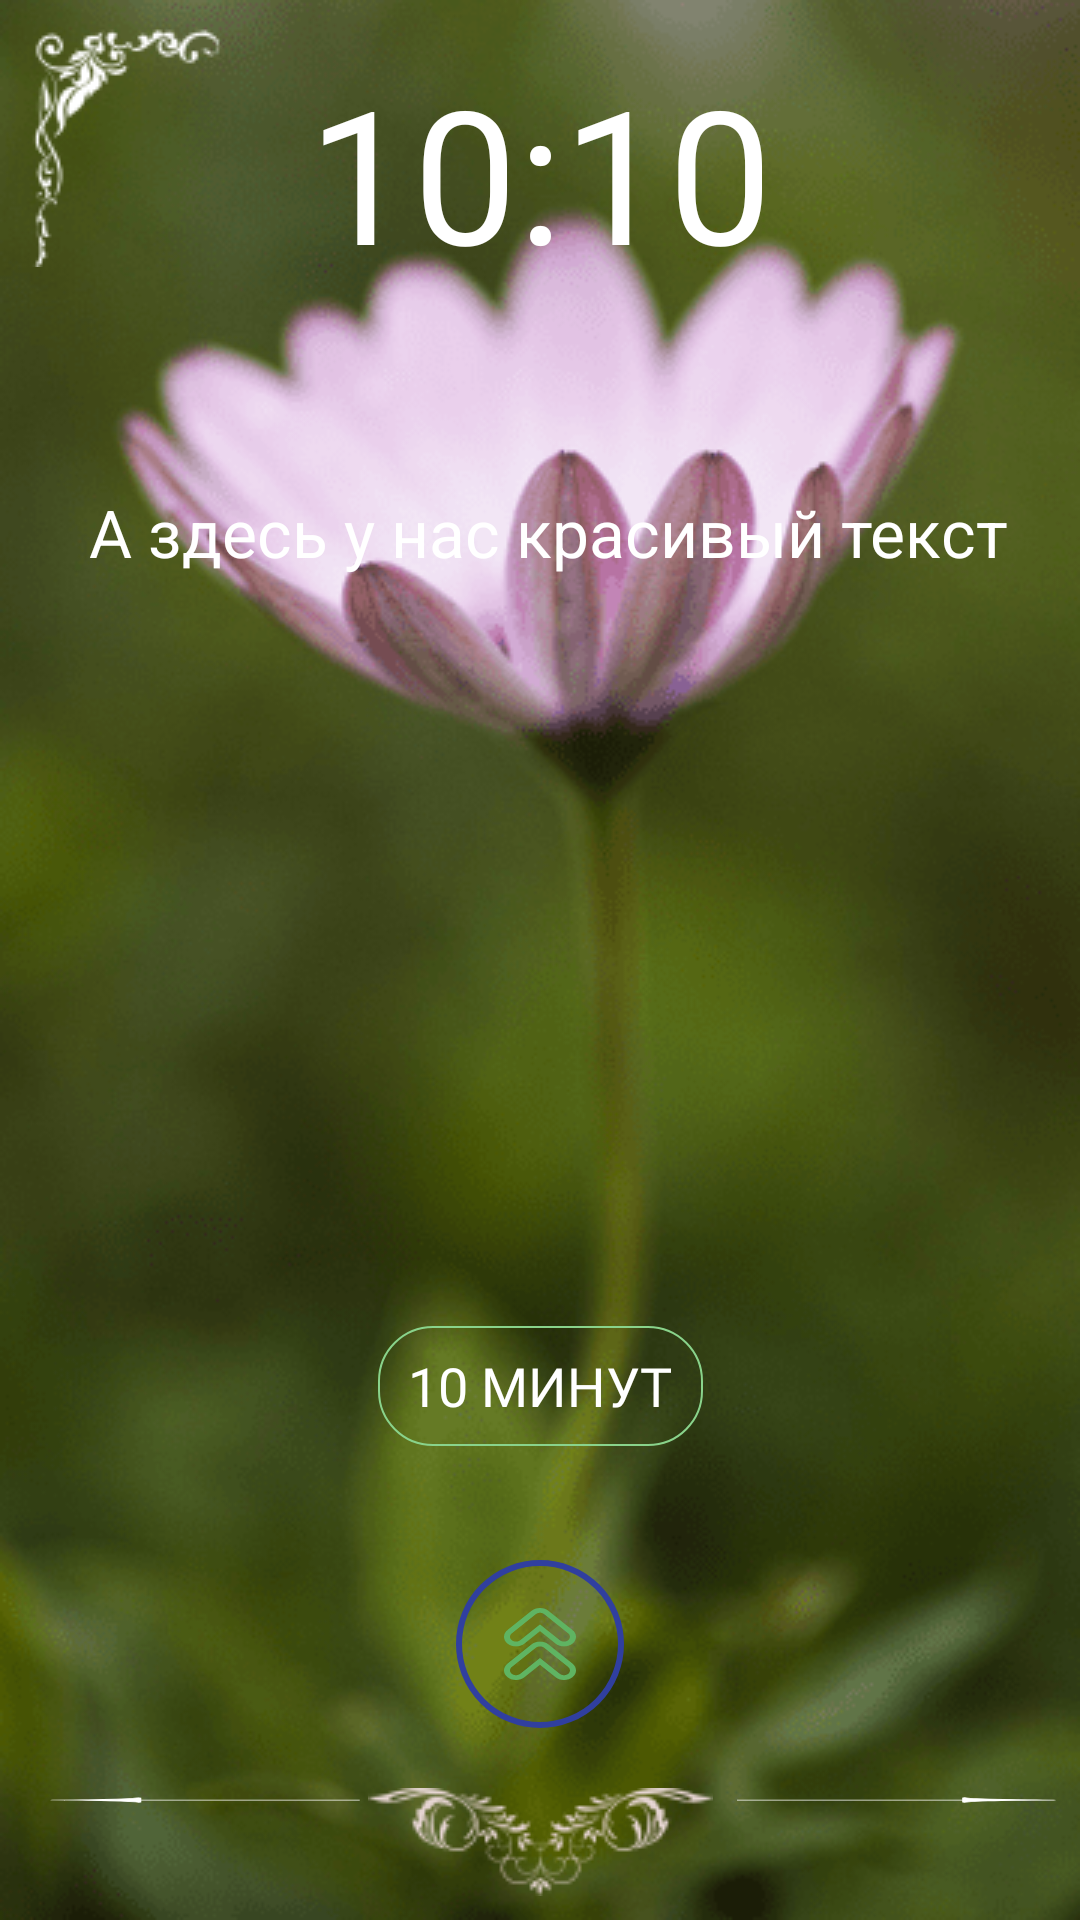

Named icons in this screenshot (1080px×1920px) and their bounding boxes, region(x1, y1, x2, y2):
arroy up: region(444, 1548, 636, 1740)
